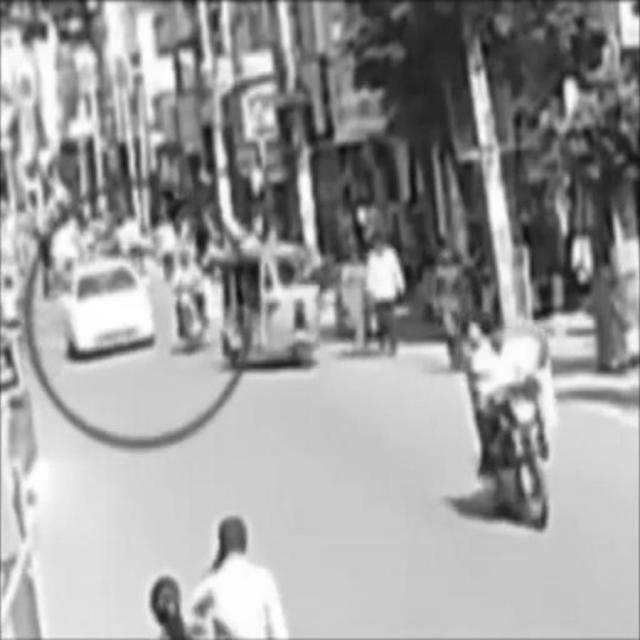person: (366, 233, 413, 357)
vehicle: (463, 325, 555, 525), (215, 248, 326, 376), (65, 252, 161, 362)
